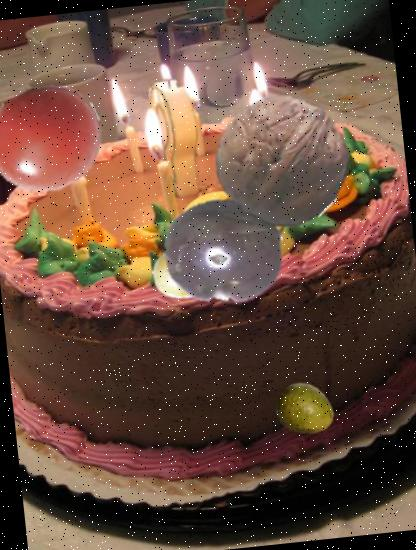Guava: (274, 378, 339, 444)
Maracuja: (148, 236, 221, 309)
Passion: (154, 184, 290, 320)
Tomato: (0, 76, 108, 203)
Walnut: (209, 87, 355, 233)
